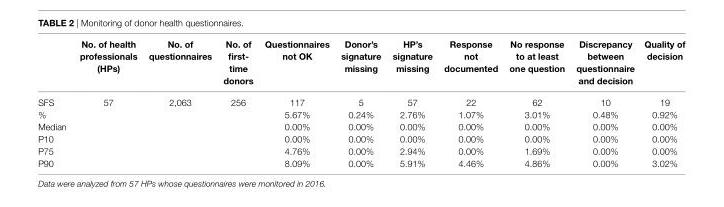table: (37, 37, 684, 167)
table column: (258, 37, 334, 167), (142, 37, 216, 167), (72, 37, 142, 167), (569, 37, 638, 167), (502, 37, 569, 167), (437, 37, 502, 167), (334, 37, 386, 167), (386, 37, 437, 167), (638, 37, 684, 167), (216, 37, 258, 167), (37, 37, 72, 167)
table column header: (37, 37, 684, 90)
table row: (37, 37, 684, 90), (37, 90, 684, 107), (37, 119, 684, 132), (37, 107, 684, 119), (37, 132, 684, 144), (37, 144, 684, 156), (37, 156, 684, 167)
